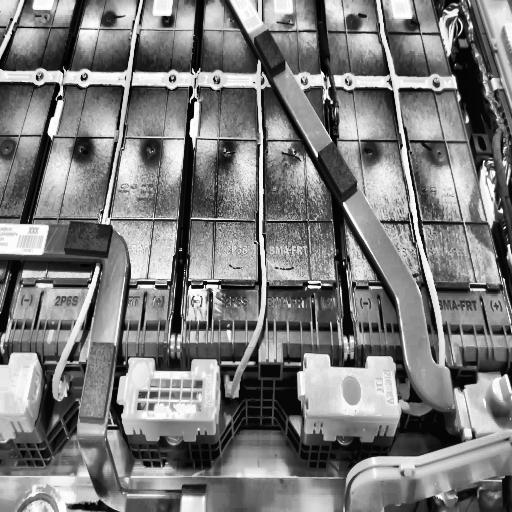busbar: (226, 0, 512, 436), (0, 218, 206, 512)
high_volt_cable: (49, 0, 148, 410), (375, 0, 451, 431), (229, 0, 274, 397)
low_volt_cable: (459, 1, 512, 261)
